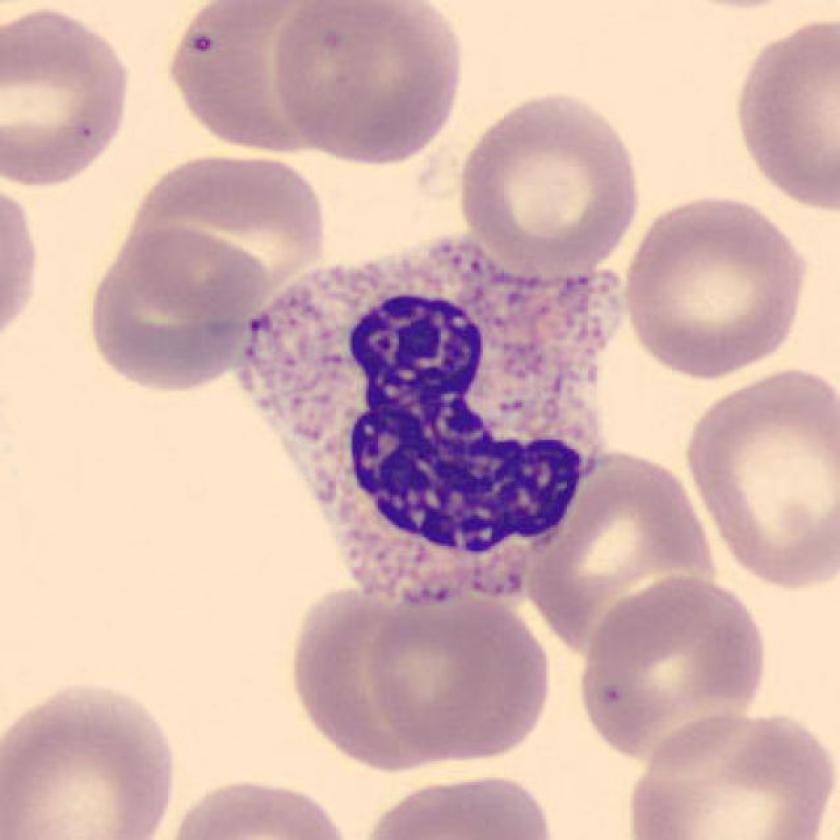neutrophil: (295, 239, 597, 589)
